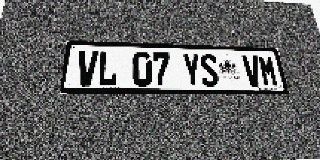0: (133, 52, 152, 86)
7: (152, 52, 171, 87)
L: (97, 51, 118, 86)
M: (257, 56, 279, 87)
S: (199, 54, 220, 87)
V: (75, 50, 98, 86), (242, 55, 263, 87)
Y: (182, 53, 202, 87)
